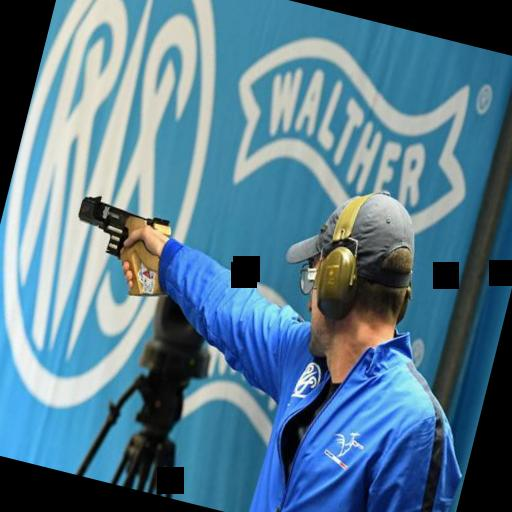Handgun: (57, 184, 194, 308)
